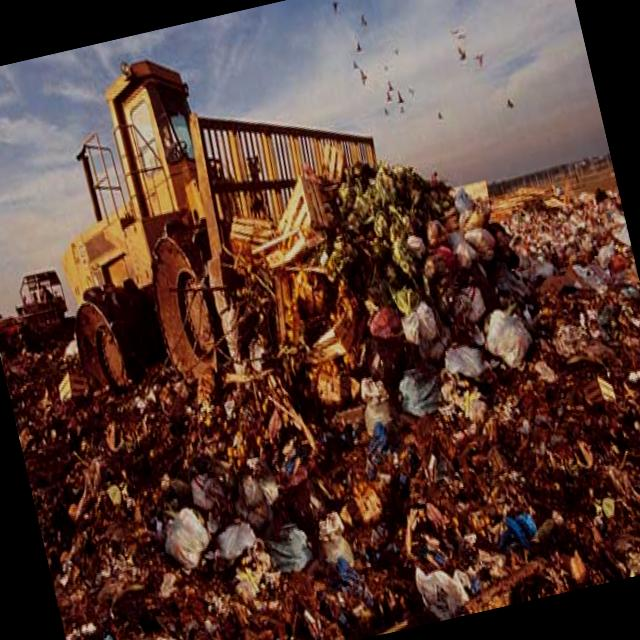garbage: (264, 115, 640, 637), (8, 320, 364, 640)
